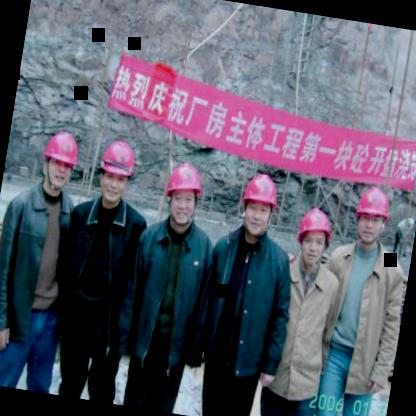helmet: (156, 155, 208, 232), (92, 132, 140, 206), (235, 168, 282, 240), (35, 126, 83, 194), (290, 203, 338, 271), (349, 184, 396, 247)
